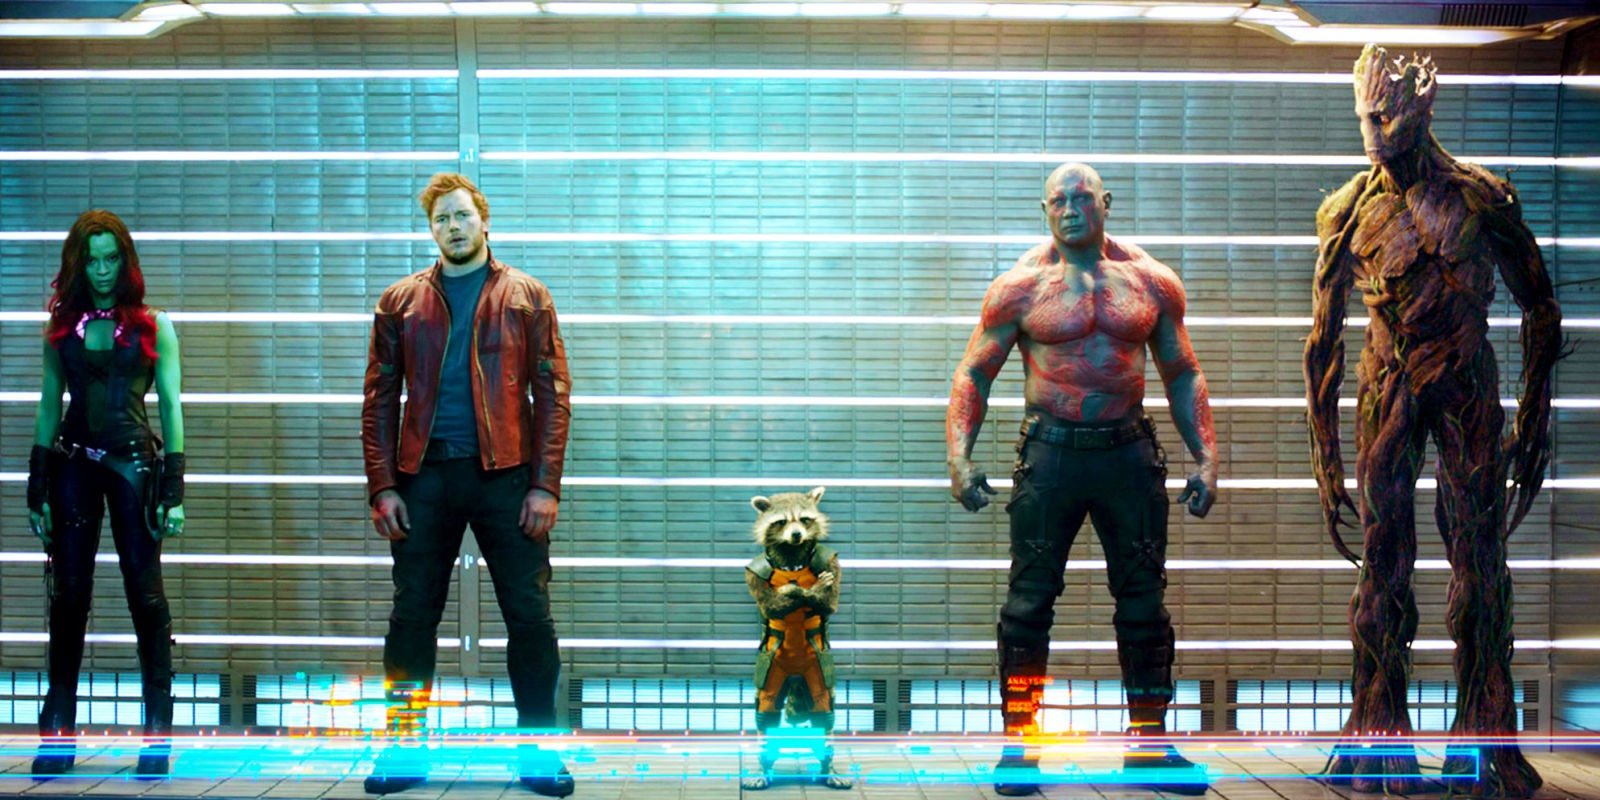bad: (1040, 177, 1103, 239), (429, 199, 481, 251), (79, 247, 122, 290)
